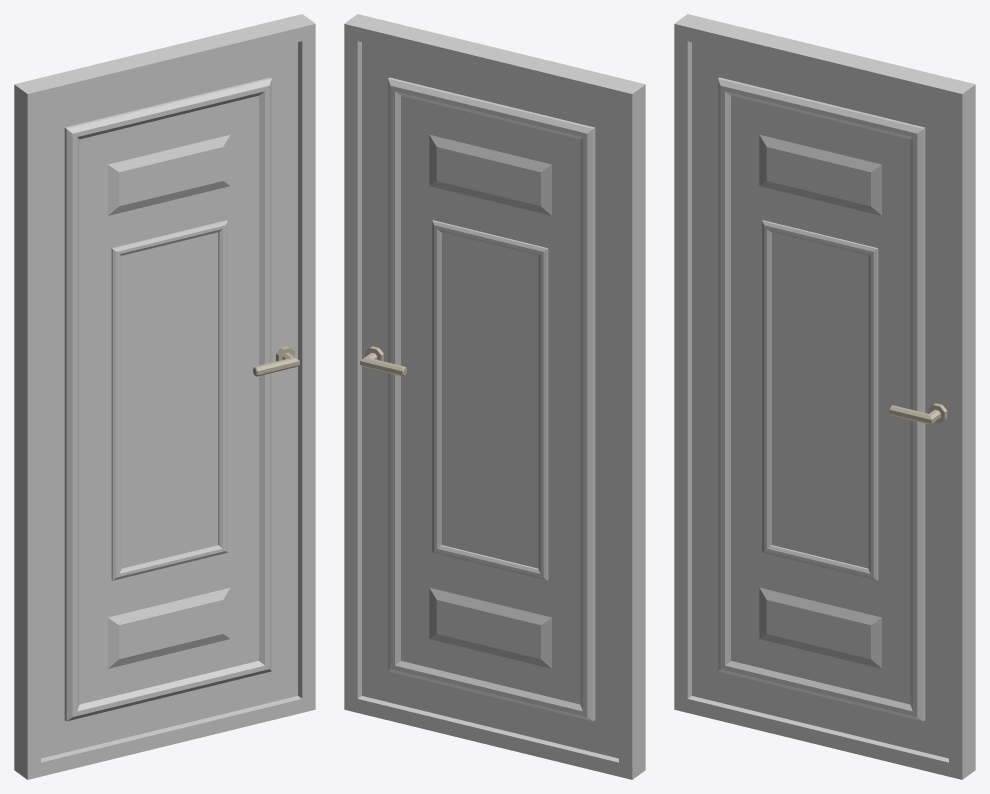
Rendered from Mesh_Door_C01.fbx.
3 renders of one model, left to right at view 1: azimuth 30°, elevation 25°; view 2: azimuth 150°, elevation 25°; view 3: azimuth 330°, elevation 25°, orthographic.
Parts seen in each view (by area): view 1: Mesh_Door_C01; view 2: Mesh_Door_C01; view 3: Mesh_Door_C01.
Boxes of the visible parts, <box> form: Mesh_Door_C01: <box>14,14,315,779</box>; Mesh_Door_C01: <box>344,14,645,779</box>; Mesh_Door_C01: <box>674,14,975,779</box>.
Size of the model in its own units: 0.9 by 2.05 by 0.1524.
